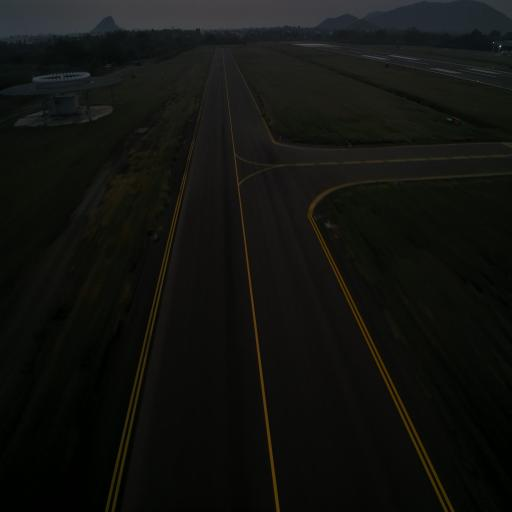on: (153, 229, 158, 241), (325, 216, 330, 227)
